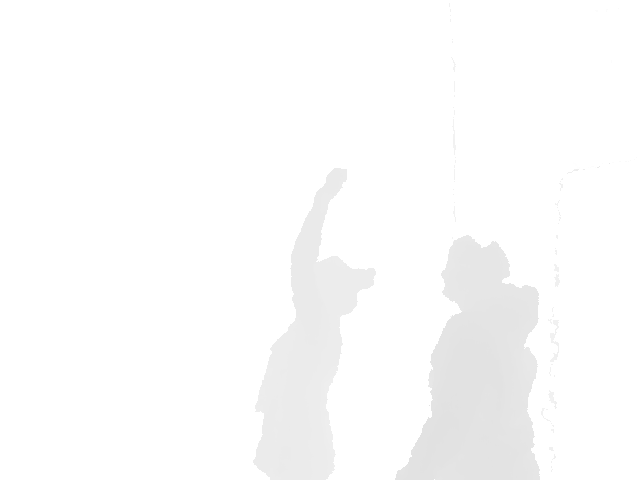hand: (314, 167, 347, 208)
head: (440, 234, 512, 318), (299, 256, 362, 319)
person: (252, 167, 376, 480), (392, 235, 543, 480)
